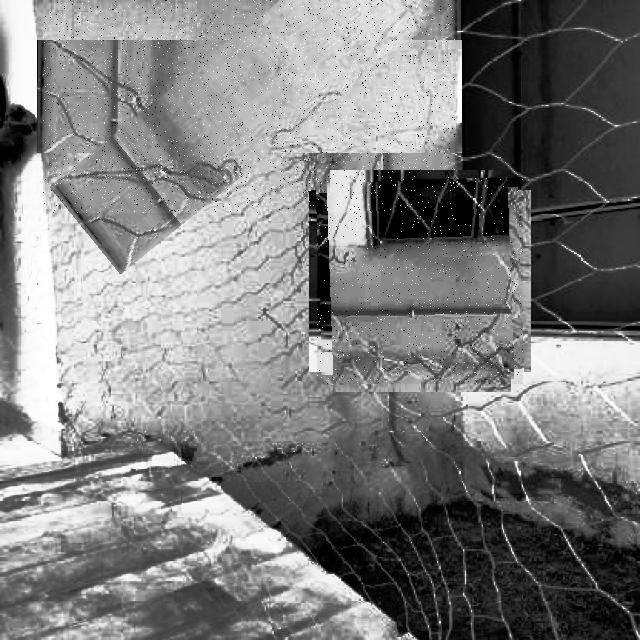anomaly-fence: (43, 0, 455, 213), (317, 178, 523, 384)
